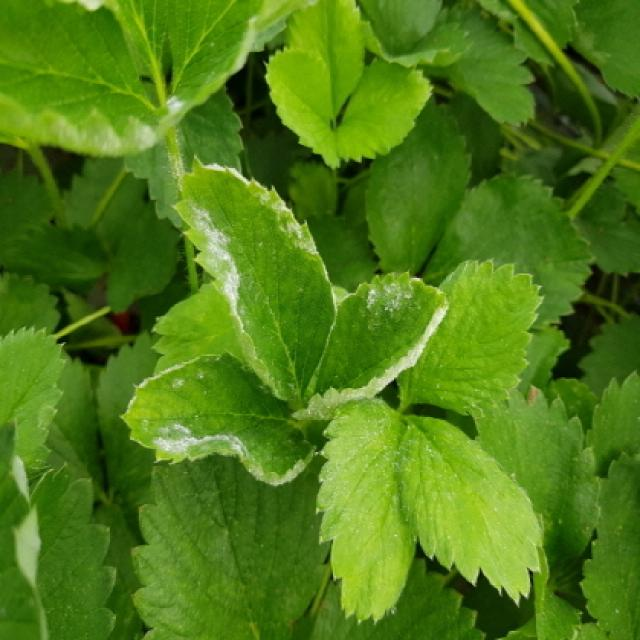Powdery Mildew Leaf: (168, 152, 339, 407), (2, 0, 188, 157), (397, 414, 543, 610), (118, 352, 316, 489), (295, 270, 448, 423), (315, 396, 417, 625), (159, 0, 275, 112)
